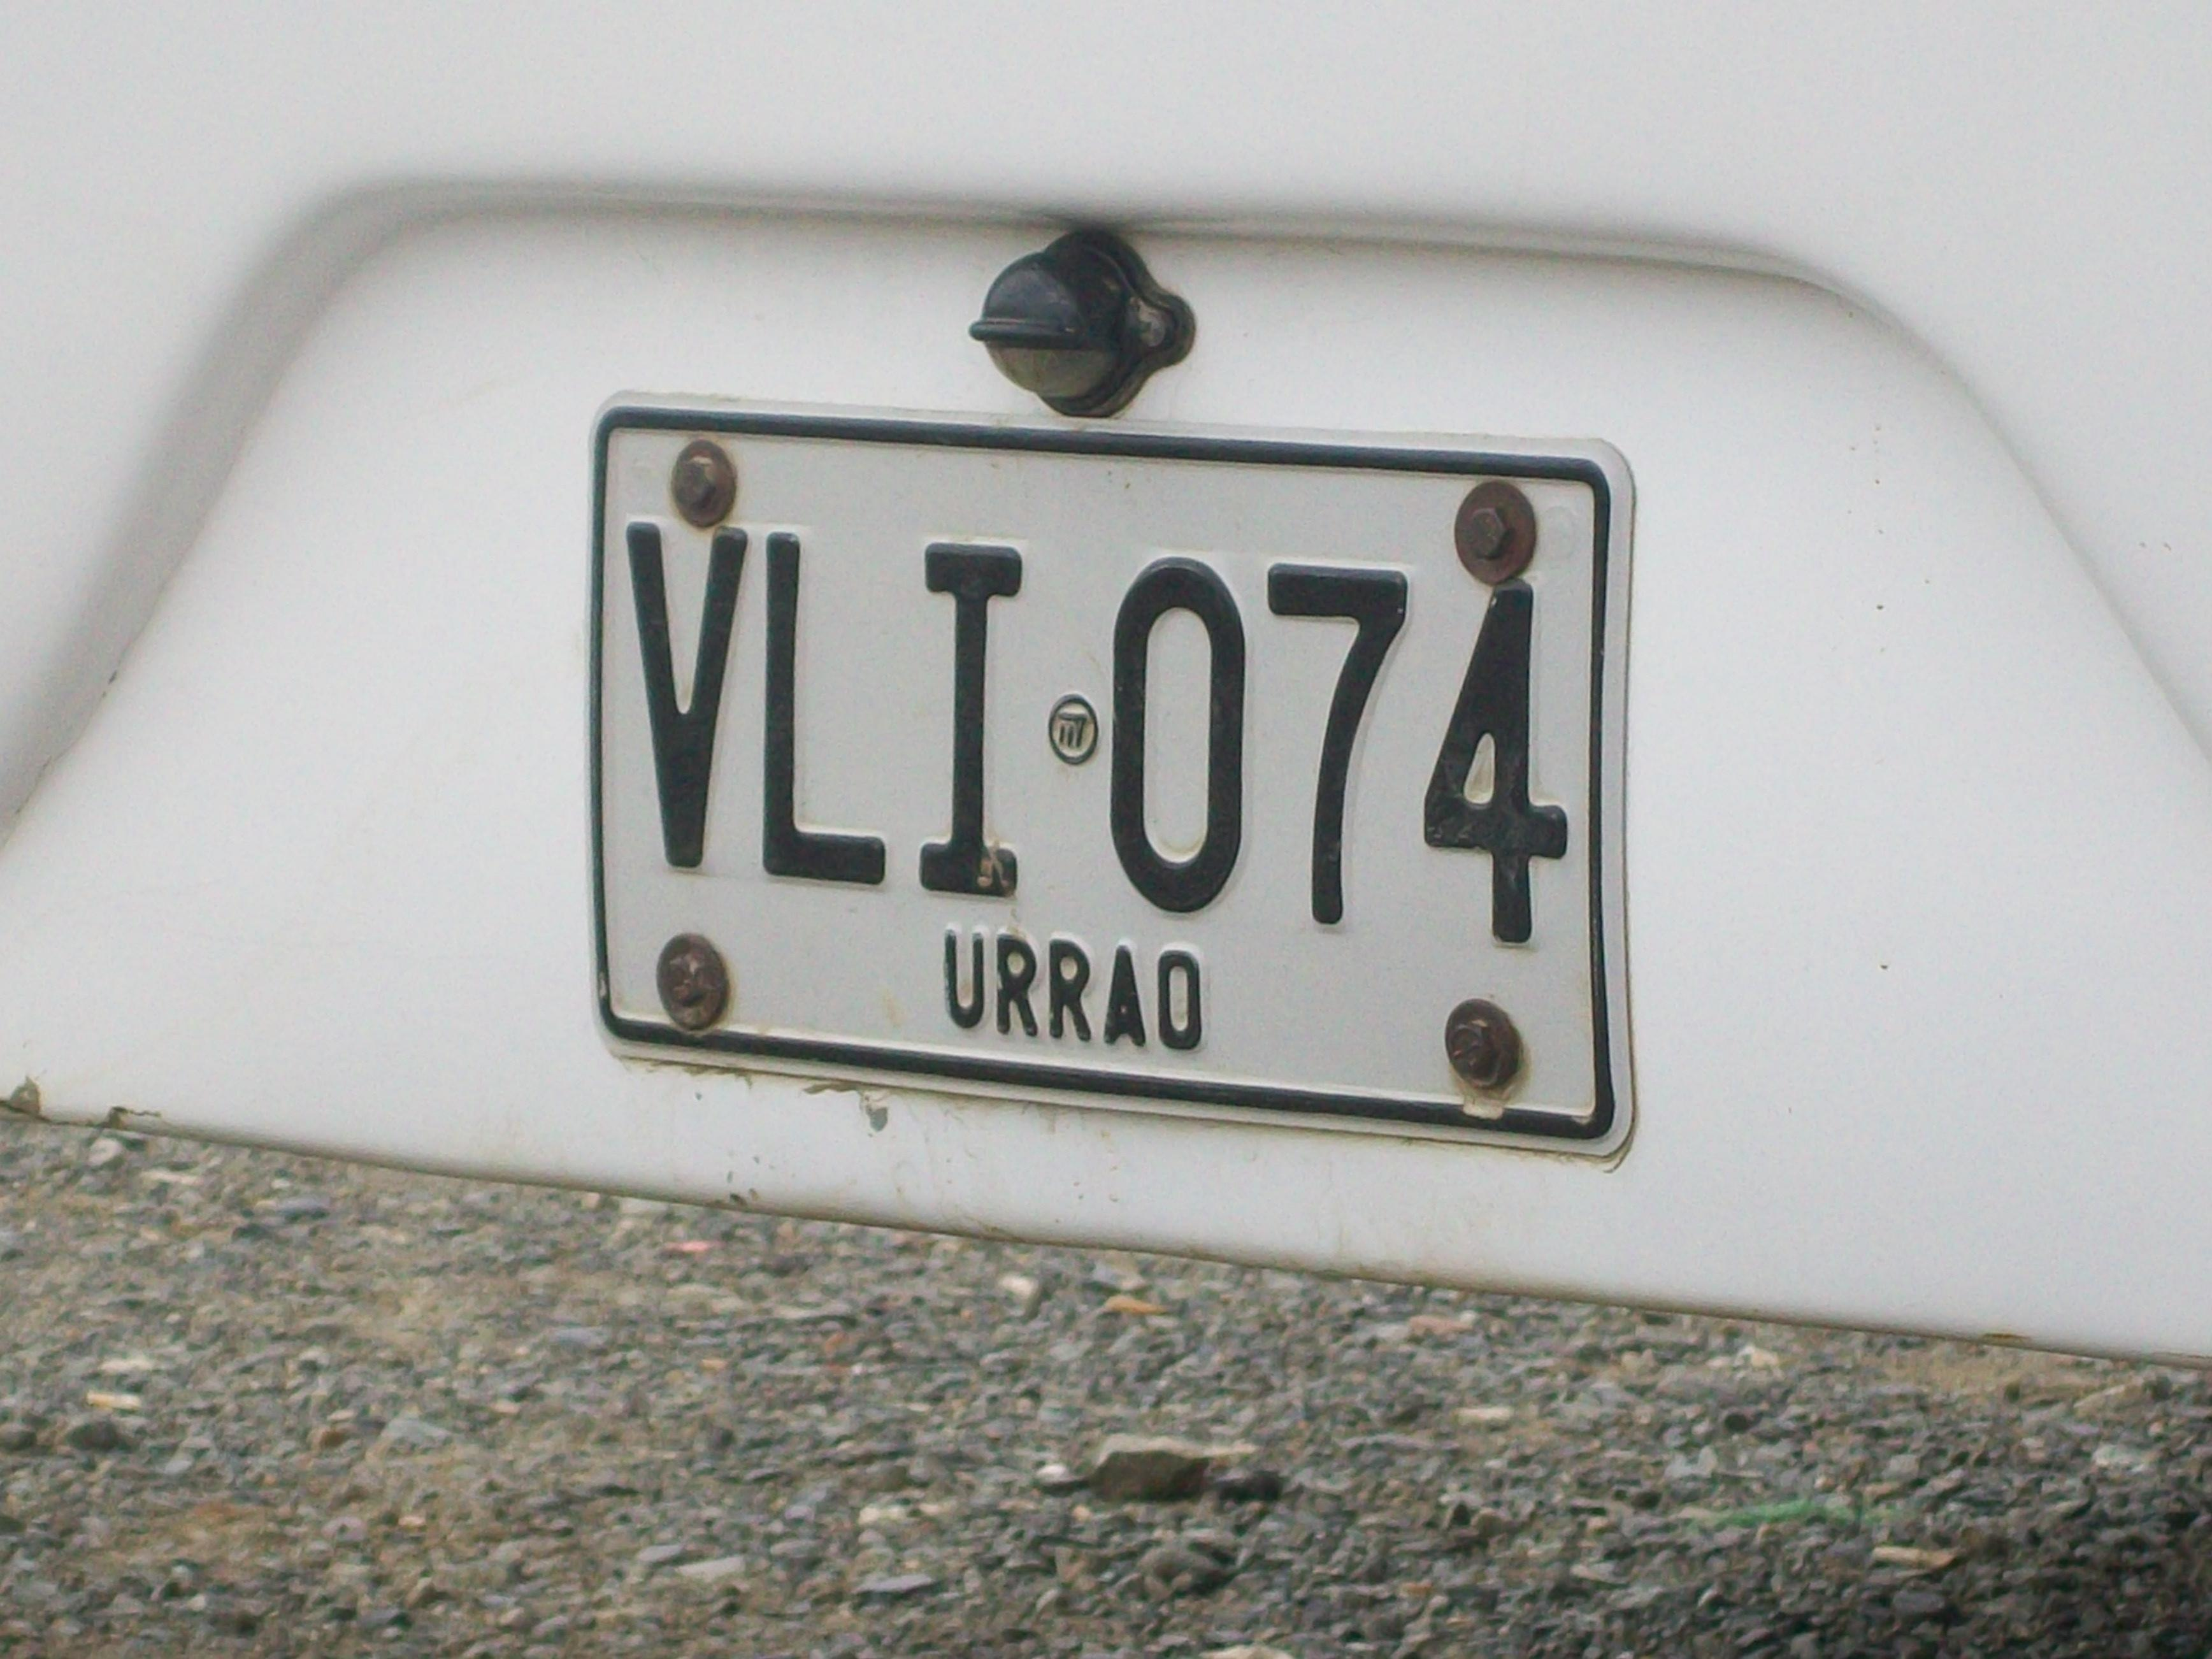placas: (578, 376, 1649, 1174)
